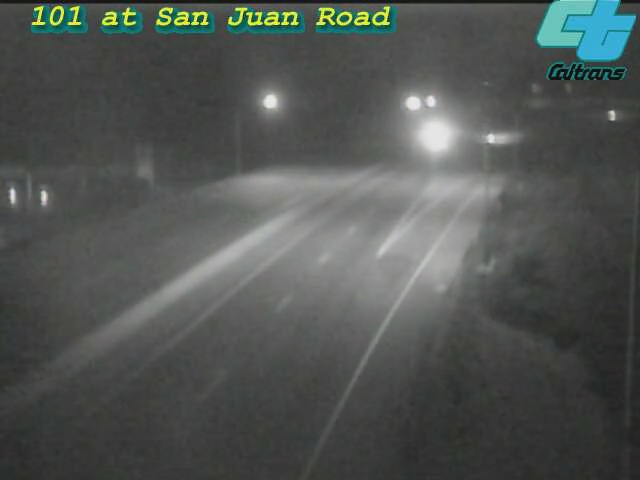vehicle: (588, 90, 638, 140), (409, 111, 459, 161), (470, 112, 520, 162)
